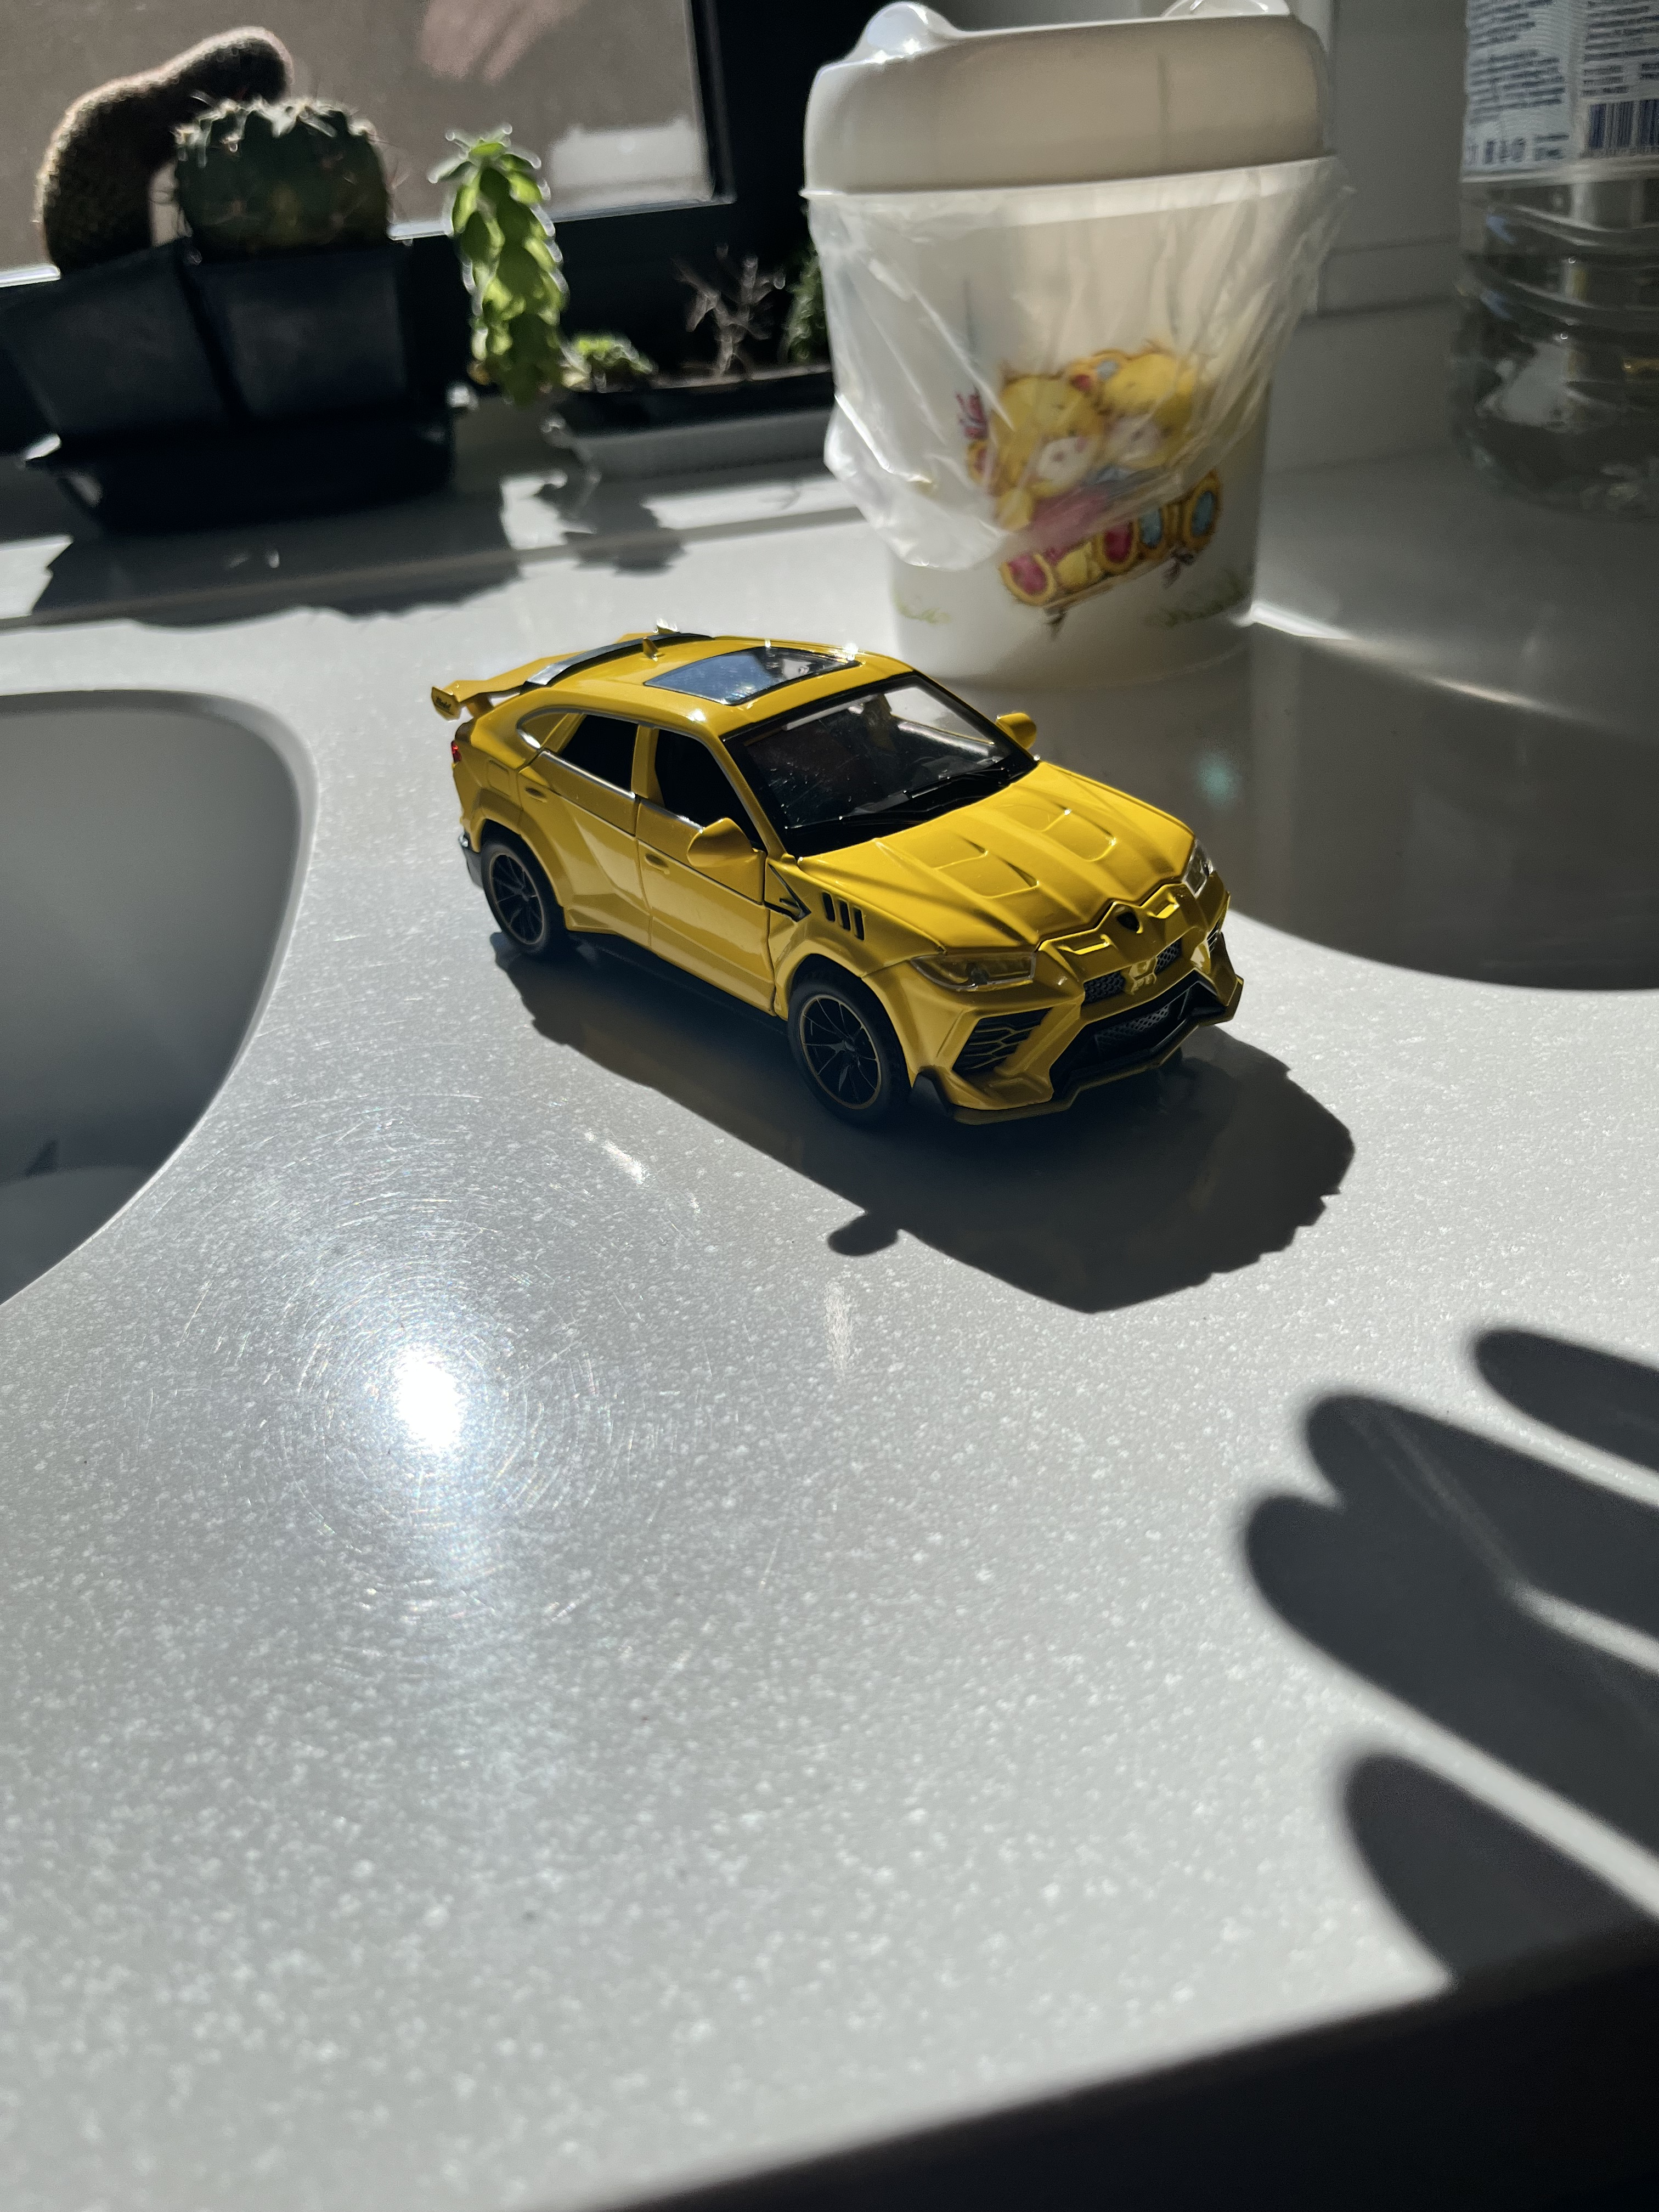lambo: (429, 620, 1244, 1127)
